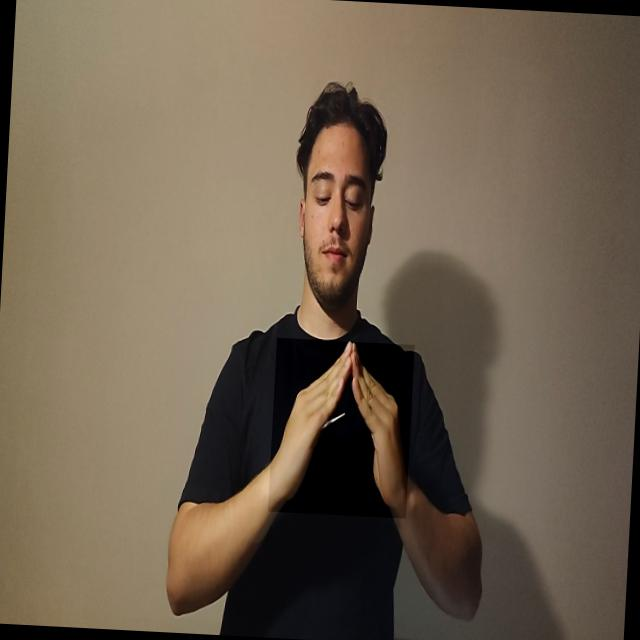house: (268, 338, 415, 519)
